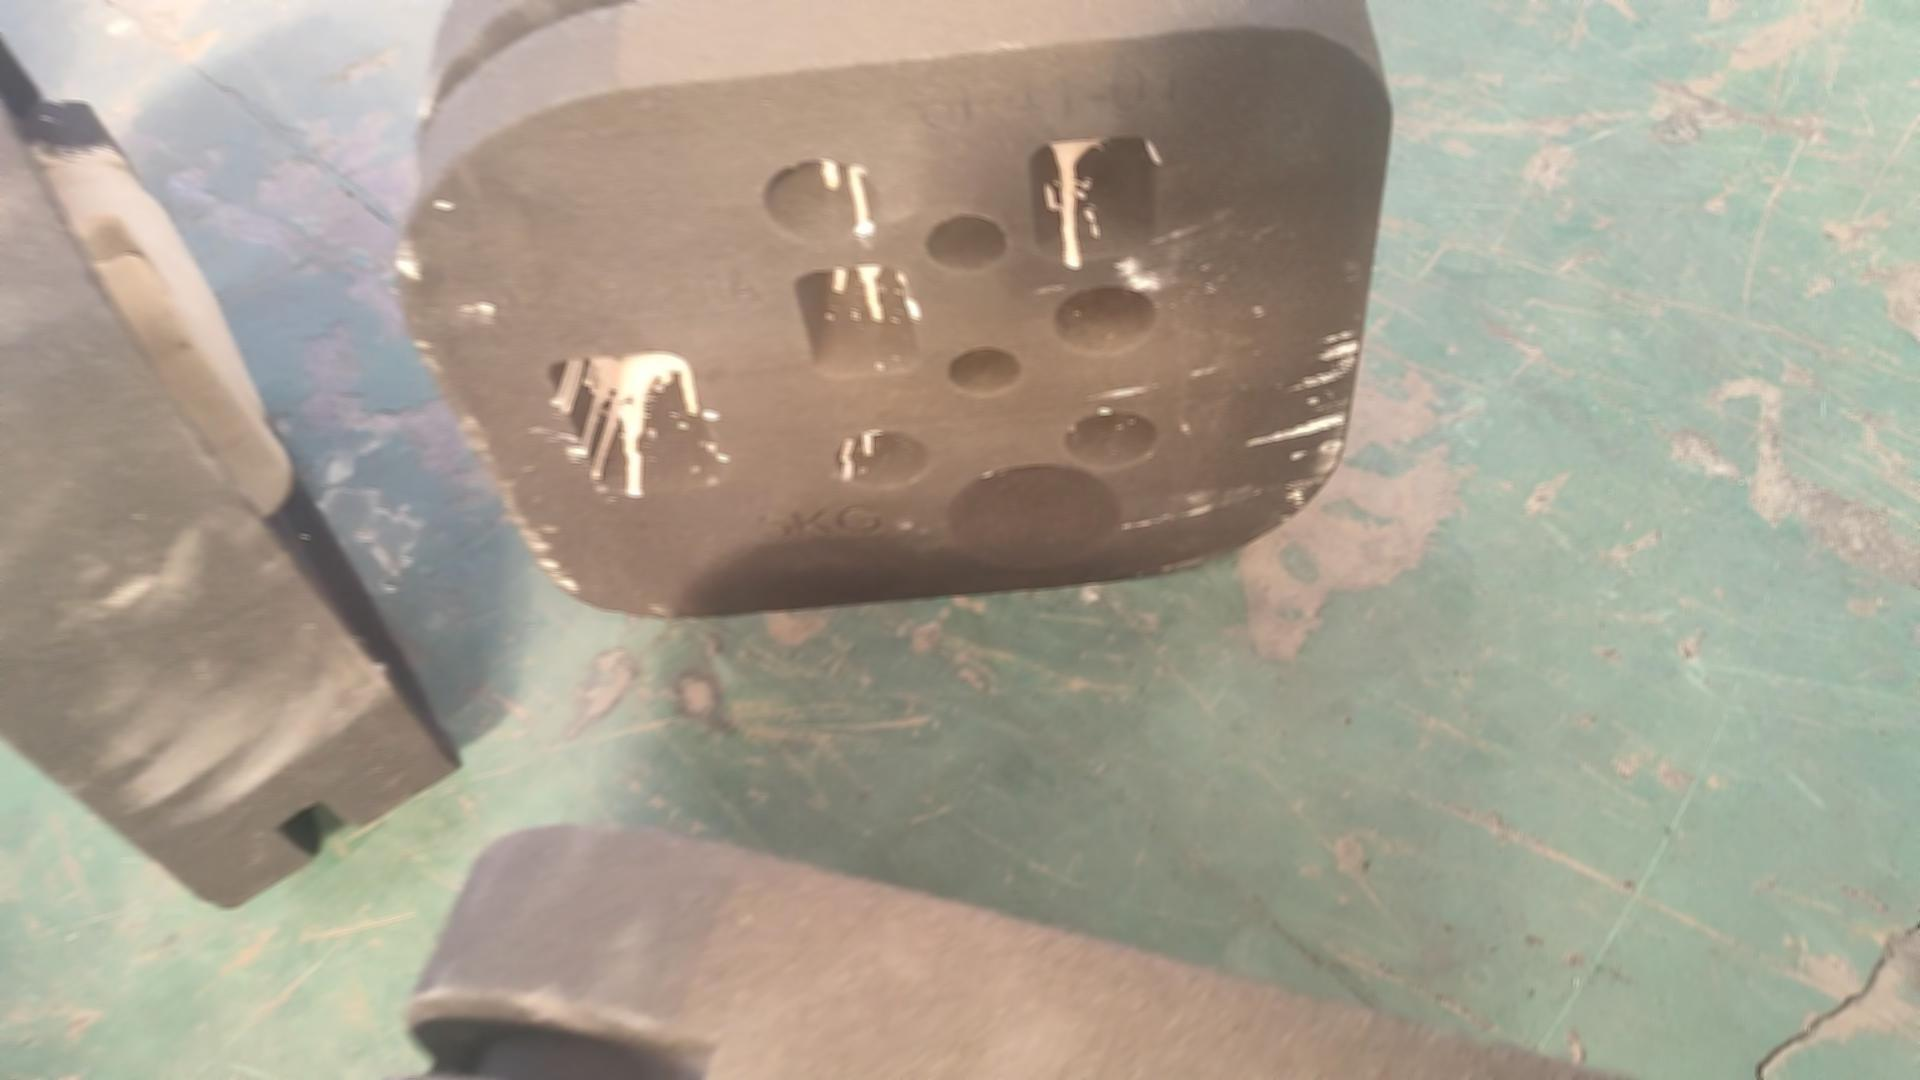pouring hole: (949, 465, 1122, 571)
